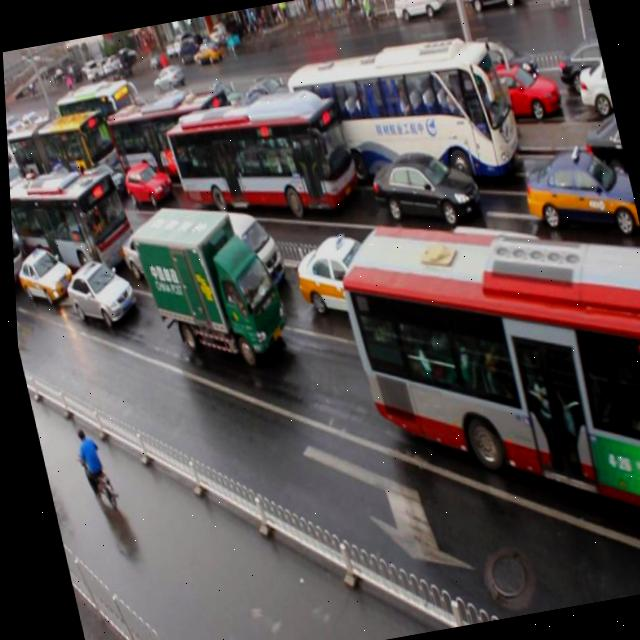bus: (122, 190, 292, 381)
car: (284, 222, 412, 336), (514, 140, 639, 252), (363, 140, 481, 237), (112, 214, 196, 292), (59, 254, 137, 328), (575, 109, 628, 189), (10, 238, 72, 304), (118, 156, 173, 209), (74, 159, 128, 209)
truck: (427, 205, 591, 377), (189, 199, 287, 305)
van: (324, 181, 640, 581), (281, 32, 525, 211), (158, 82, 362, 234), (6, 158, 139, 292), (99, 84, 243, 198), (4, 106, 119, 186), (8, 190, 26, 289)
